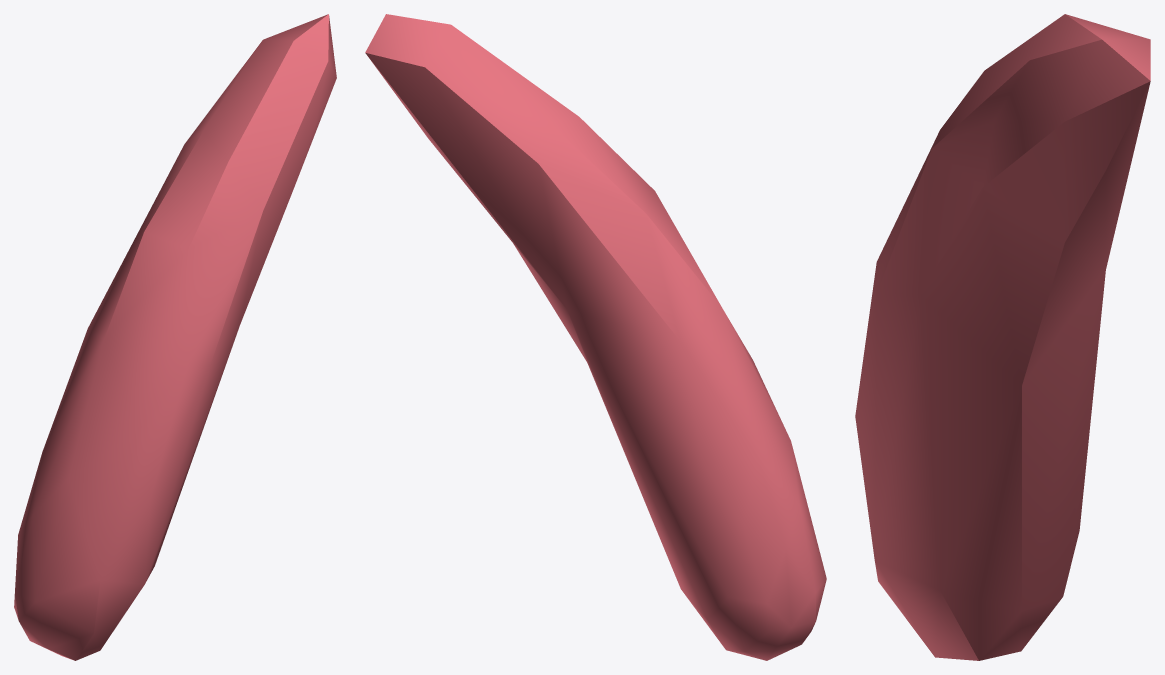
The model's file is fma8681_fj3068.glb.
The picture shows the model from 3 angles, left to right: view 1: azimuth 30°, elevation 25°; view 2: azimuth 150°, elevation 25°; view 3: azimuth 270°, elevation 25°; orthographic projection. The views are drawn at different scales.
Parts seen in each view (by area): view 1: FMA8681_FJ3068; view 2: FMA8681_FJ3068; view 3: FMA8681_FJ3068.
Part boxes in pixels (x1=…): FMA8681_FJ3068: x1=14, y1=14, x2=336, y2=660; FMA8681_FJ3068: x1=365, y1=14, x2=826, y2=660; FMA8681_FJ3068: x1=855, y1=14, x2=1150, y2=660.
Bounding box in the file's own units: 0.00603 × 0.00875 × 0.00276.
